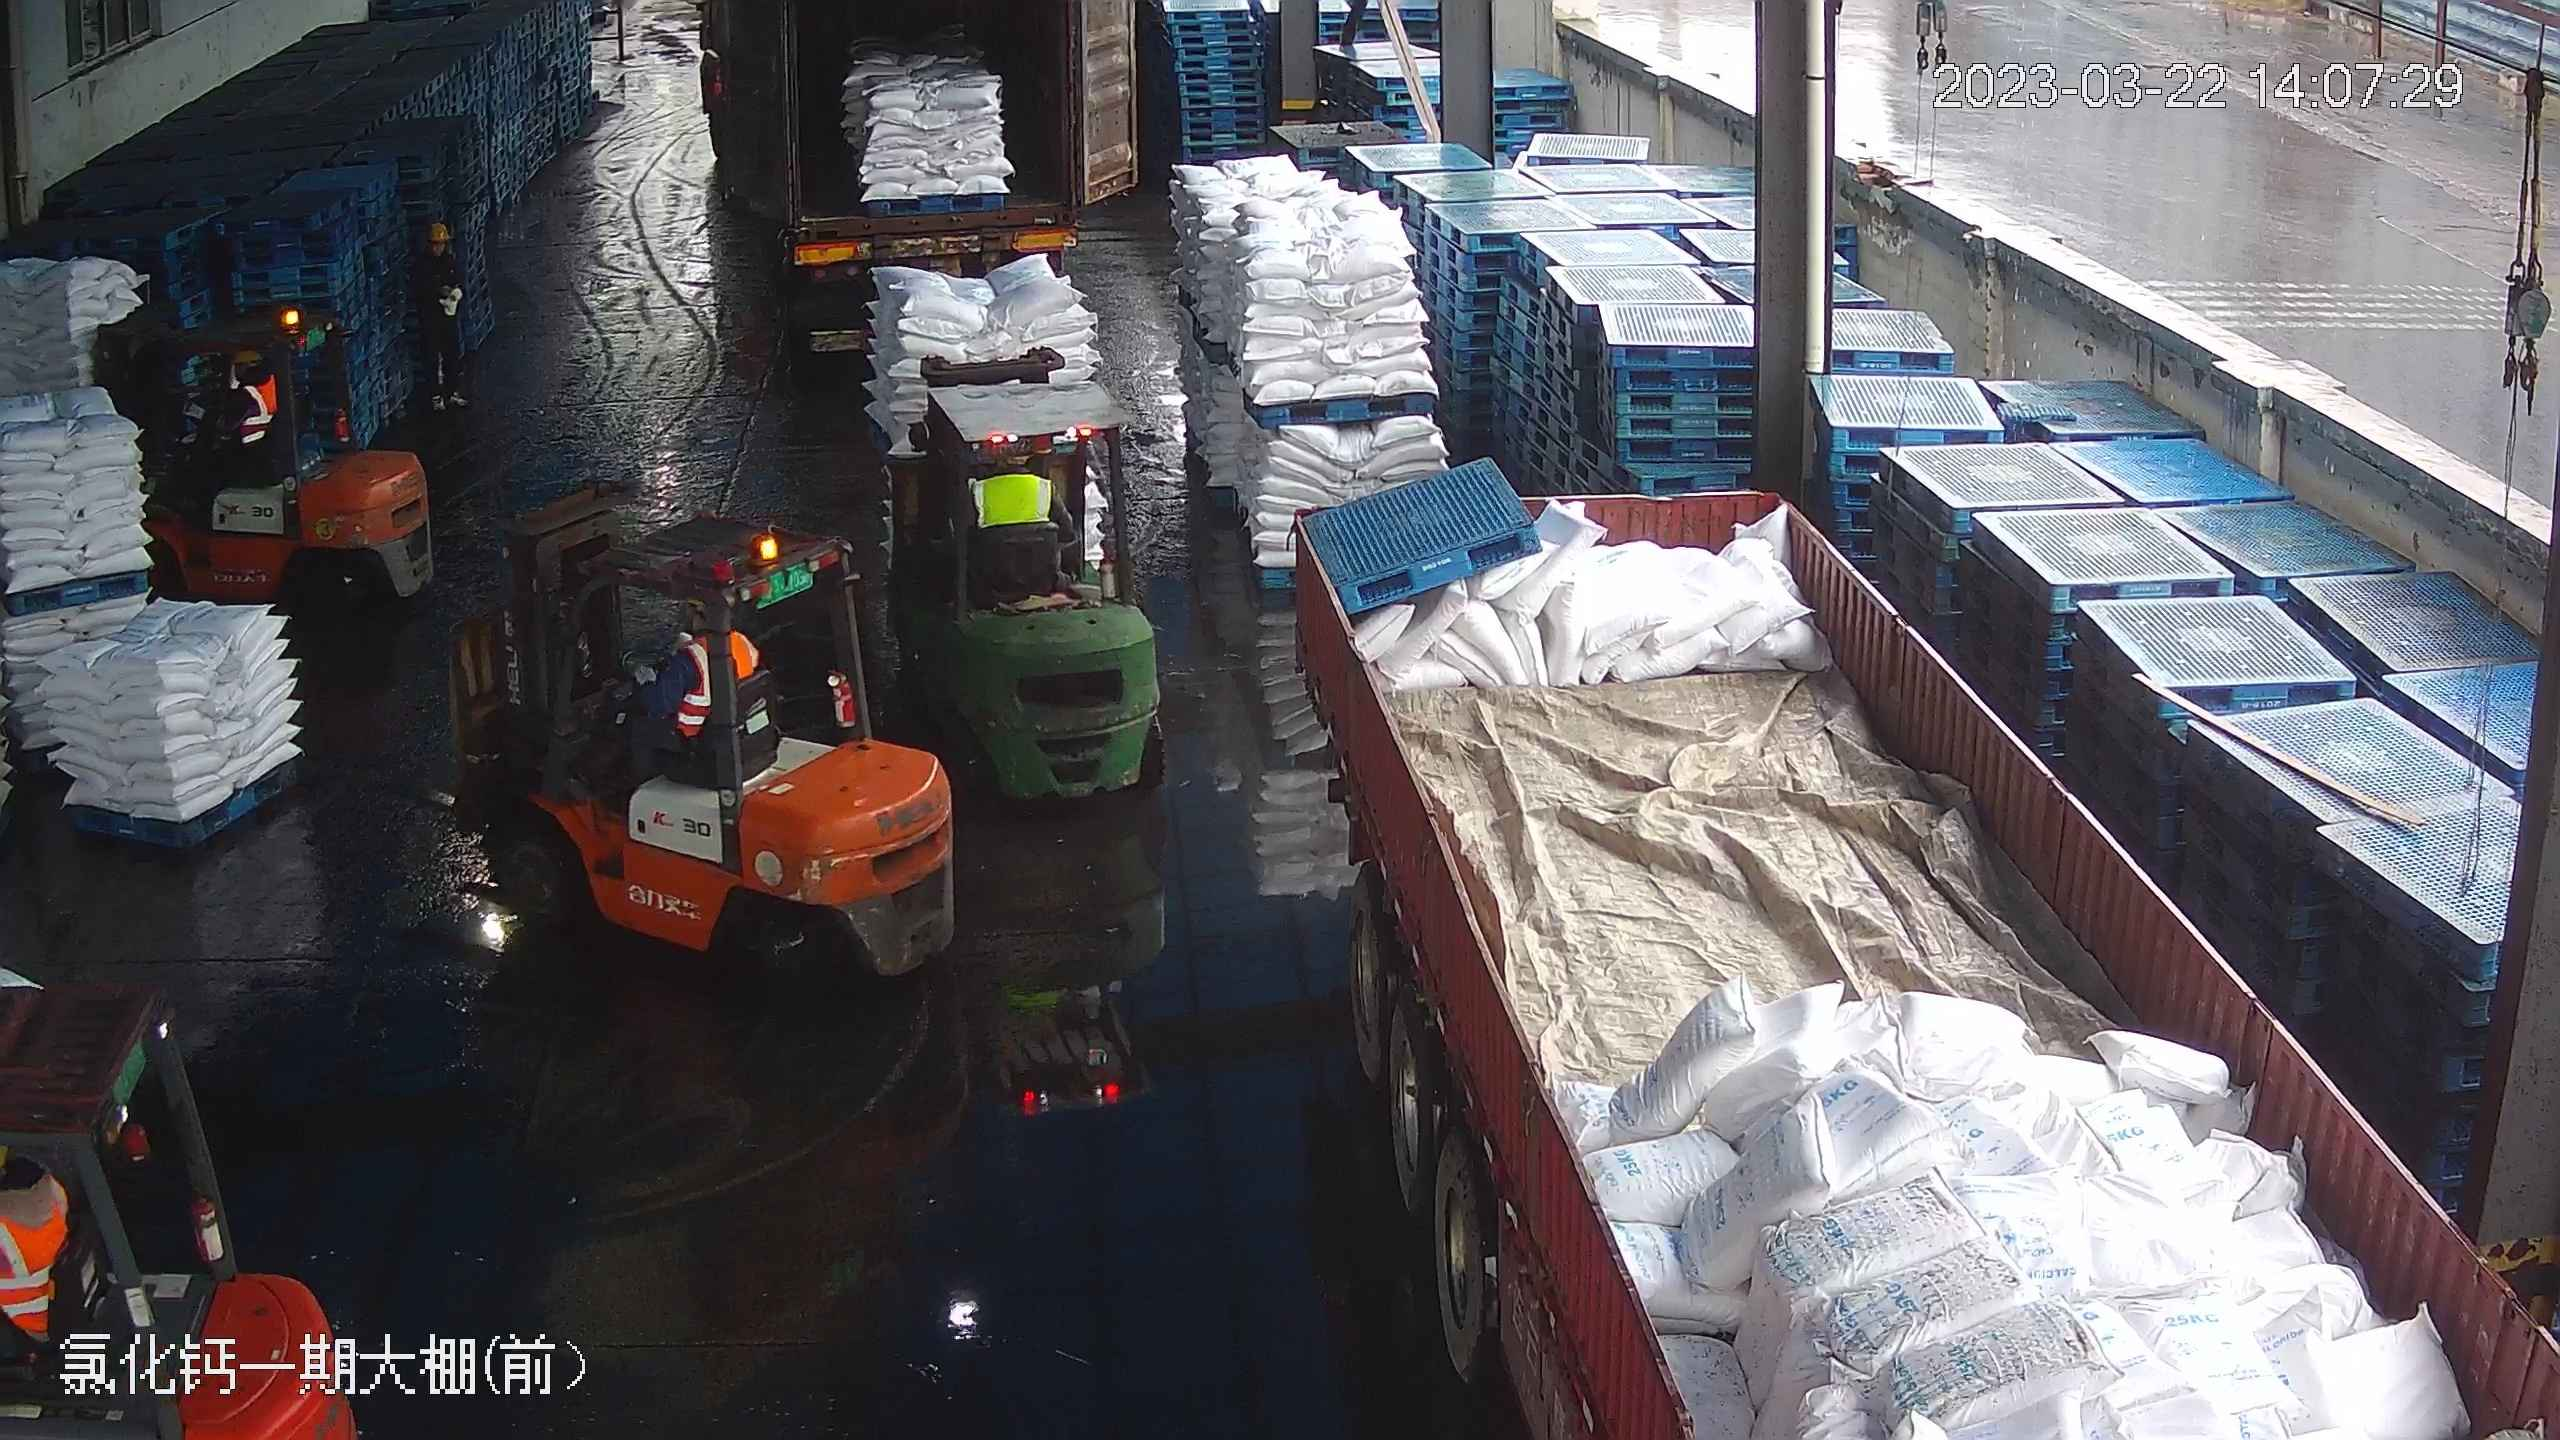head: (1, 1138, 68, 1246), (223, 345, 279, 405), (412, 220, 464, 277)
helmet: (231, 346, 265, 367), (426, 221, 451, 243)
people: (601, 593, 761, 776), (1, 1132, 71, 1415), (192, 341, 285, 485), (407, 214, 472, 411)
truck: (1267, 478, 2545, 1439), (714, 1, 1106, 309)
